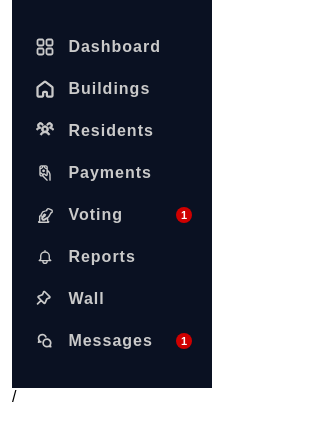
Scenario: Sidebar for manager › should redirect to Voting Route when click on item with Voting label
The width and height of the screenshot is (332, 422).
Step 1. Click the heading "Voting" → [96, 215], box [68,204,123,226]
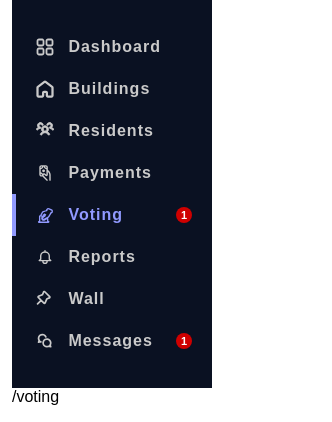
Expected: the text with test id "location-display" reads "/voting", [12,388,59,405]
